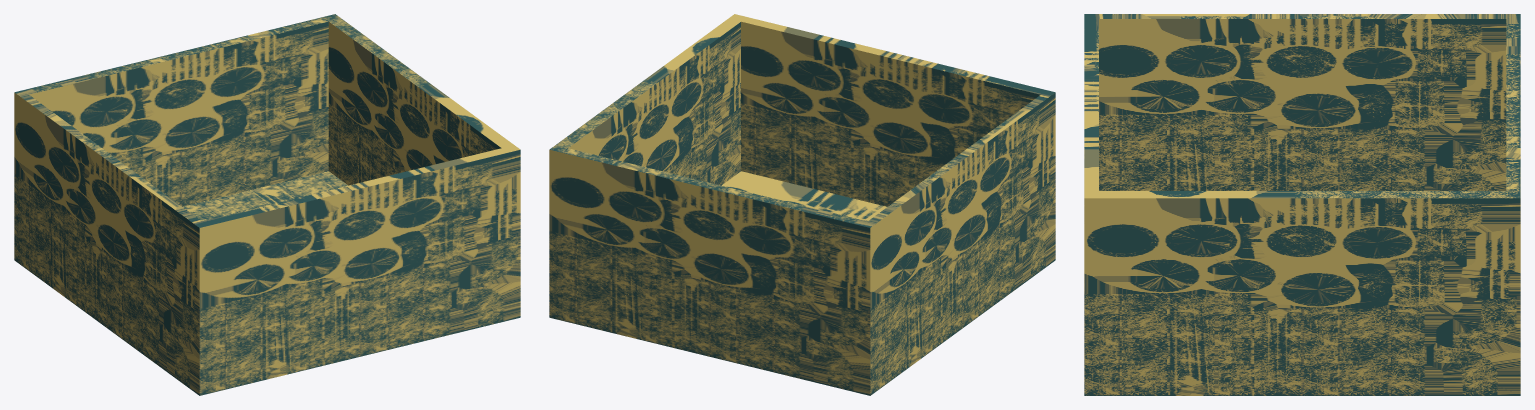
Rendered from bucket.fbx.
3 views of the same model, side by side, from view 1: azimuth 30°, elevation 25°; view 2: azimuth 150°, elevation 25°; view 3: azimuth 270°, elevation 25° (orthographic). The views are drawn at different scales.
Visible parts, largest first — view 1: bucket; view 2: bucket; view 3: bucket.
Boxes of the visible parts, x1,y1,x2,y2 form: bucket: (14,14,520,395); bucket: (549,14,1055,395); bucket: (1084,14,1520,395).
Bounding box in the file's own units: 300 × 150 × 300.
